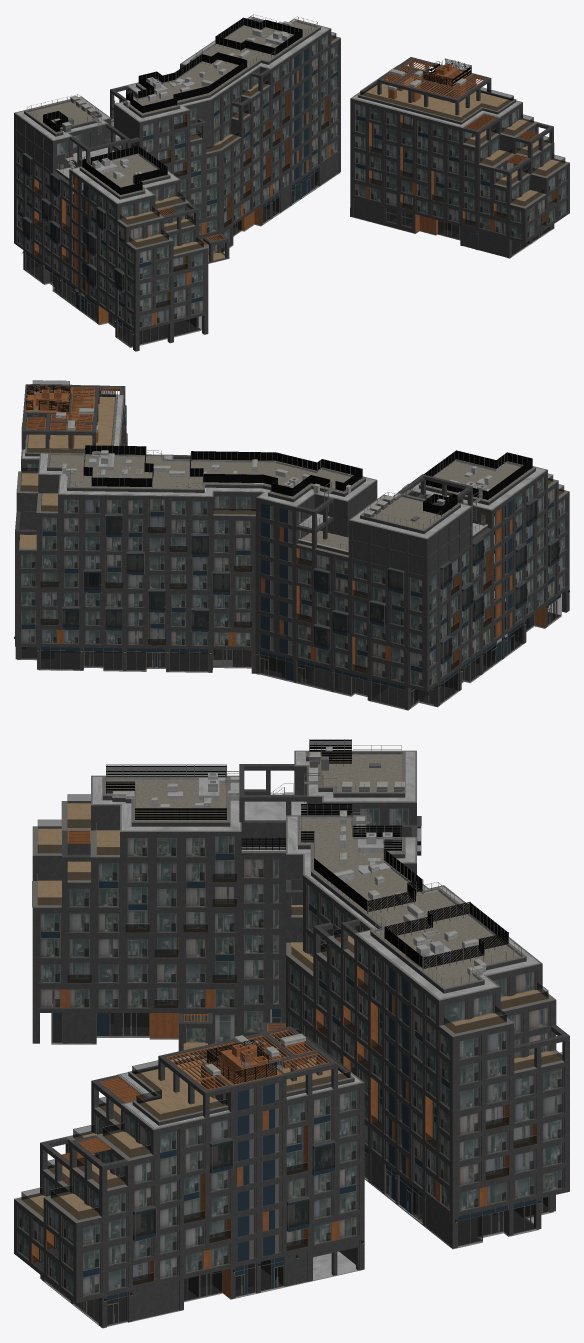
Rendered from B10_bra_spot.glb.
3 renders of one model, top to bottom at view 1: azimuth 30°, elevation 25°; view 2: azimuth 150°, elevation 25°; view 3: azimuth 270°, elevation 25°, orthographic. The views are drawn at different scales.
Parts seen in each view (by area): view 1: SM_B10_Fasade_012, SM_B10_Fasade_005, SM_B10_Fasade_001, SM_B10_Fasade_010, SM_B10_Roof_002, SM_B10_Fasade_006, SM_B10_Roof_001, SM_B10_Roof_003, SM_B10_Fasade_002, SM_B10_Interior_fl1, SM_B10_Roof_004, SM_B10_Base_001; view 2: SM_B10_Fasade_008, SM_B10_Fasade_009, SM_B10_Fasade_001, SM_B10_Roof_002, SM_B10_Interior_fl1, SM_B10_Roof_001, SM_B10_Roof_003, SM_B10_Roof_004, SM_B10_Fasade_002, SM_B10_Fasade_007, SM_B10_Base_001; view 3: SM_B10_Fasade_003, SM_B10_Fasade_011, SM_B10_Fasade_012, SM_B10_Fasade_007, SM_B10_Roof_002, SM_B10_Fasade_006, SM_B10_Roof_001, SM_B10_Roof_003, SM_B10_Fasade_010, SM_B10_Roof_004, SM_B10_Interior_fl1, SM_B10_Fasade_002 (+2 smaller).
Part boxes in pixels (box(x1,y1,x2,y2)): SM_B10_Fasade_012: box(139, 29, 340, 263); SM_B10_Fasade_005: box(350, 98, 525, 258); SM_B10_Fasade_001: box(14, 113, 135, 351); SM_B10_Fasade_010: box(117, 180, 208, 351); SM_B10_Roof_002: box(110, 14, 330, 147); SM_B10_Fasade_006: box(462, 102, 569, 257); SM_B10_Roof_001: box(350, 57, 522, 128); SM_B10_Roof_003: box(53, 138, 180, 204); SM_B10_Fasade_002: box(53, 85, 139, 184); SM_B10_Interior_fl1: box(27, 171, 549, 346); SM_B10_Roof_004: box(14, 94, 110, 140); SM_B10_Base_001: box(25, 173, 339, 347); SM_B10_Fasade_008: box(15, 491, 262, 672); SM_B10_Fasade_009: box(255, 498, 433, 709); SM_B10_Fasade_001: box(427, 470, 569, 706); SM_B10_Roof_002: box(38, 445, 376, 557); SM_B10_Interior_fl1: box(21, 599, 559, 707); SM_B10_Roof_001: box(21, 380, 124, 459); SM_B10_Roof_003: box(410, 450, 547, 543); SM_B10_Roof_004: box(349, 483, 472, 539); SM_B10_Fasade_002: box(296, 474, 489, 549); SM_B10_Fasade_007: box(15, 467, 59, 659); SM_B10_Base_001: box(17, 615, 561, 710); SM_B10_Fasade_003: box(76, 1074, 364, 1327); SM_B10_Fasade_011: box(32, 832, 285, 1054); SM_B10_Fasade_012: box(262, 854, 452, 1248); SM_B10_Fasade_007: box(439, 964, 569, 1248); SM_B10_Roof_002: box(241, 804, 542, 1000); SM_B10_Fasade_006: box(14, 1075, 153, 1325); SM_B10_Roof_001: box(117, 1026, 364, 1130); SM_B10_Roof_003: box(91, 764, 306, 831); SM_B10_Fasade_010: box(32, 794, 119, 1042); SM_B10_Roof_004: box(294, 739, 416, 802); SM_B10_Interior_fl1: box(46, 1009, 548, 1324); SM_B10_Fasade_002: box(239, 764, 416, 846).
Bounding box in the file's own units: 102 × 35.02 × 68.92.
28 materials, 22 textured.
